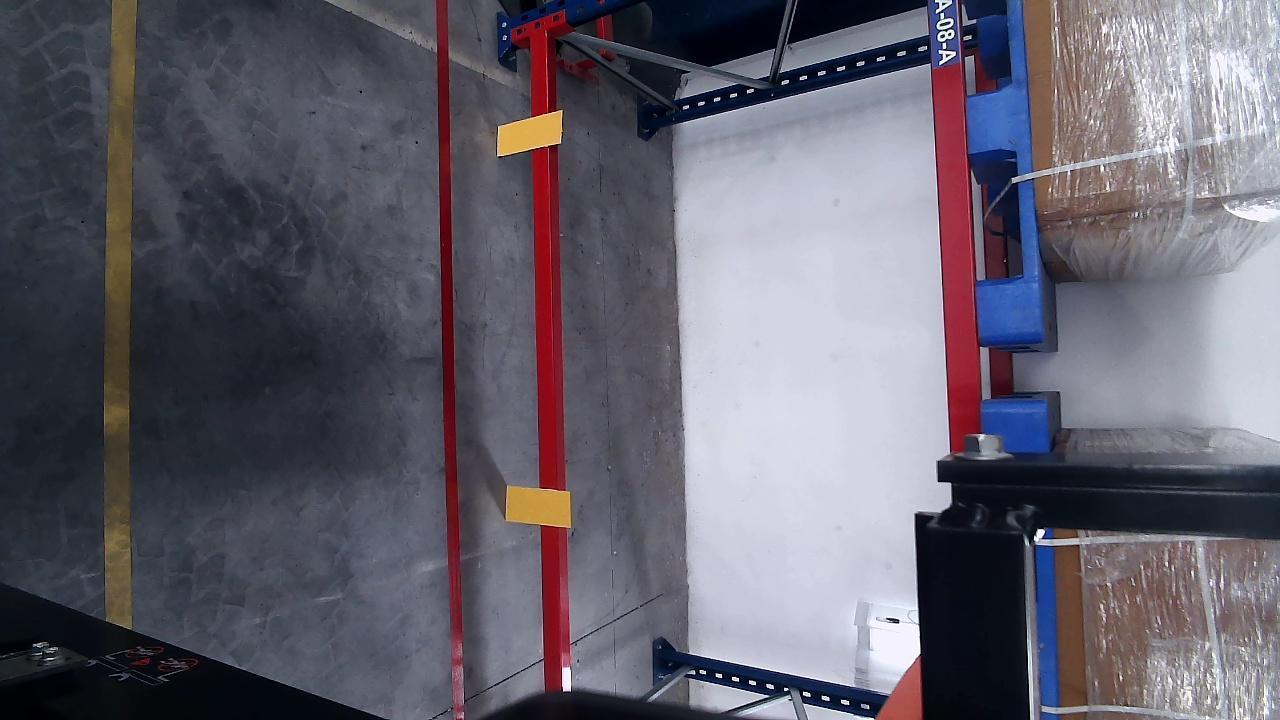red_line: (435, 1, 468, 720)
yellow_line: (101, 0, 137, 624)
